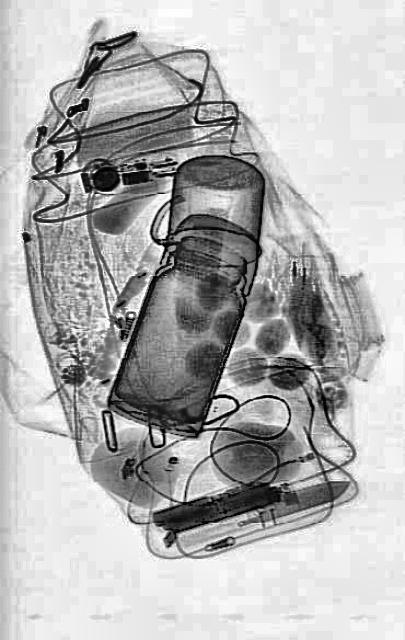Knife: (239, 472, 351, 530)
